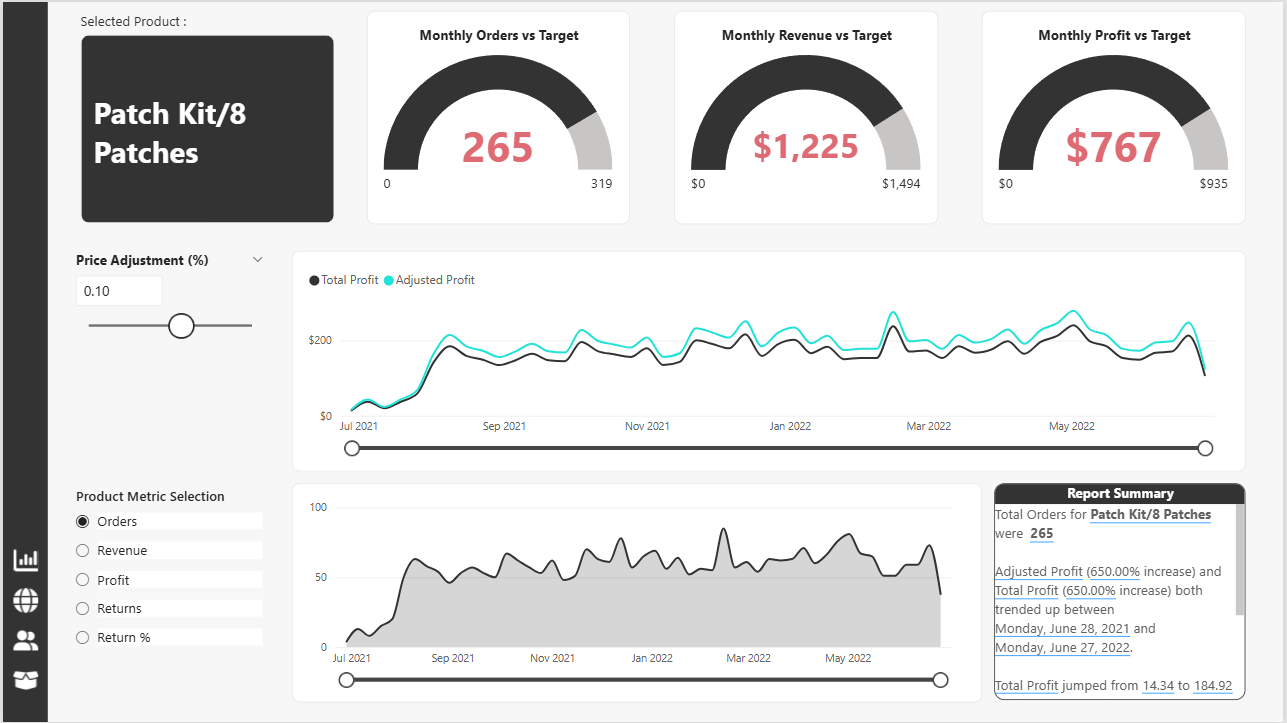

Layout of this report page (visuals, bound fields, positions):
{"tool":"powerbi","page":{"name":"Product Detail","canvas":[1280,720],"ordinal":3},"visuals":[{"type":"shape","box":[0,0,45,720],"z":0},{"type":"actionButton","box":[0,538.8,45,40],"z":0,"group":"g1"},{"type":"gauge","title":"Monthly Orders vs Target","fields":{"MaxValue":["Measure Table.Order Target"],"Y":["Measure Table.Total Orders"]},"box":[364.3,8.4,263,213.5],"z":1000},{"type":"actionButton","box":[0,578.8,45,40],"z":1000,"group":"g1"},{"type":"gauge","title":"Monthly Revenue vs Target","fields":{"MaxValue":["Measure Table.Revenue Target"],"Y":["Measure Table.Total Revenue"]},"box":[670.8,8.8,263.8,213.8],"z":2000},{"type":"actionButton","box":[0,618.8,45,40],"z":2000,"group":"g1"},{"type":"gauge","title":"Monthly Profit vs Target","fields":{"MaxValue":["Measure Table.Profit Target"],"Y":["Measure Table.Total Profit"]},"box":[978.8,8.8,263.8,213.8],"z":3000},{"type":"actionButton","box":[0,658.8,45,40],"z":3000,"group":"g1"},{"type":"lineChart","title":"Profit Trending","fields":{"Category":["Calendar Lookup.Date Hierarchy.Start of Year","Calendar Lookup.Date Hierarchy.Start of Month","Calendar Lookup.Date Hierarchy.Start of Week","Calendar Lookup.Date Hierarchy.Date"],"Y":["Measure Table.Total Profit","Measure Table.Adjusted Profit"]},"box":[288.3,248.5,954.3,220.8],"z":4000},{"type":"areaChart","title":"Return Trending","fields":{"Category":["Calendar Lookup.Date Hierarchy.Start of Year","Calendar Lookup.Date Hierarchy.Start of Month","Calendar Lookup.Date Hierarchy.Start of Week","Calendar Lookup.Date Hierarchy.Date"],"Y":["Measure Table.Total Orders"]},"box":[288.3,481.4,690.1,219.6],"z":5000},{"type":"cardVisual","fields":{"Data":["Min(Product Lookup.ProductName)"]},"box":[77.2,32.6,254.6,189.4],"z":6000},{"type":"textbox","box":[77.2,8.4,243.7,24.1],"z":7000},{"type":"group","id":"g1","title":"Navigation Buttons","box":[0,538.8,45,160],"z":8000},{"type":"slicer","fields":{"Values":["Price Adjustment (%).Price Adjustment (%)"]},"box":[65.1,248.5,202.7,147.2],"z":9000},{"type":"slicer","fields":{"Values":["Product Metric Selection.Product Metric Selection"]},"box":[65.1,485,194.2,173.7],"z":10000},{"type":"textbox","title":"Report Summary","box":[991.7,481.4,250.9,217.2],"z":11000}]}

Visuals, with their boxes on the page's 1280x720 design canvas (x1, y1, x2, y2). These are canvas units, not pixel positions in the 1287x723 screenshot, which may show the page scaled, cropped or inside an application window:
shape: [0, 0, 45, 720]
actionButton: [0, 539, 45, 579]
"Monthly Orders vs Target" gauge: [364, 8, 627, 222]
actionButton: [0, 579, 45, 619]
"Monthly Revenue vs Target" gauge: [671, 9, 935, 223]
actionButton: [0, 619, 45, 659]
"Monthly Profit vs Target" gauge: [979, 9, 1243, 223]
actionButton: [0, 659, 45, 699]
"Profit Trending" lineChart: [288, 248, 1243, 469]
"Return Trending" areaChart: [288, 481, 978, 701]
cardVisual - Min(Product Lookup.ProductName): [77, 33, 332, 222]
textbox: [77, 8, 321, 32]
"Navigation Buttons" group: [0, 539, 45, 699]
slicer - Price Adjustment (%).Price Adjustment (%): [65, 248, 268, 396]
slicer - Product Metric Selection.Product Metric Selection: [65, 485, 259, 659]
"Report Summary" textbox: [992, 481, 1243, 699]
